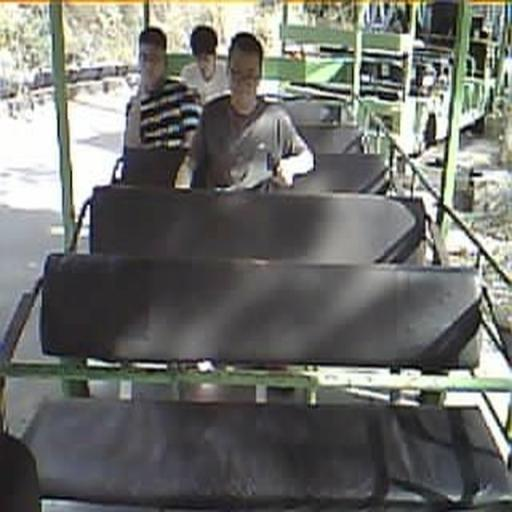persona: (188, 31, 316, 193), (121, 26, 204, 188), (179, 24, 231, 104)
